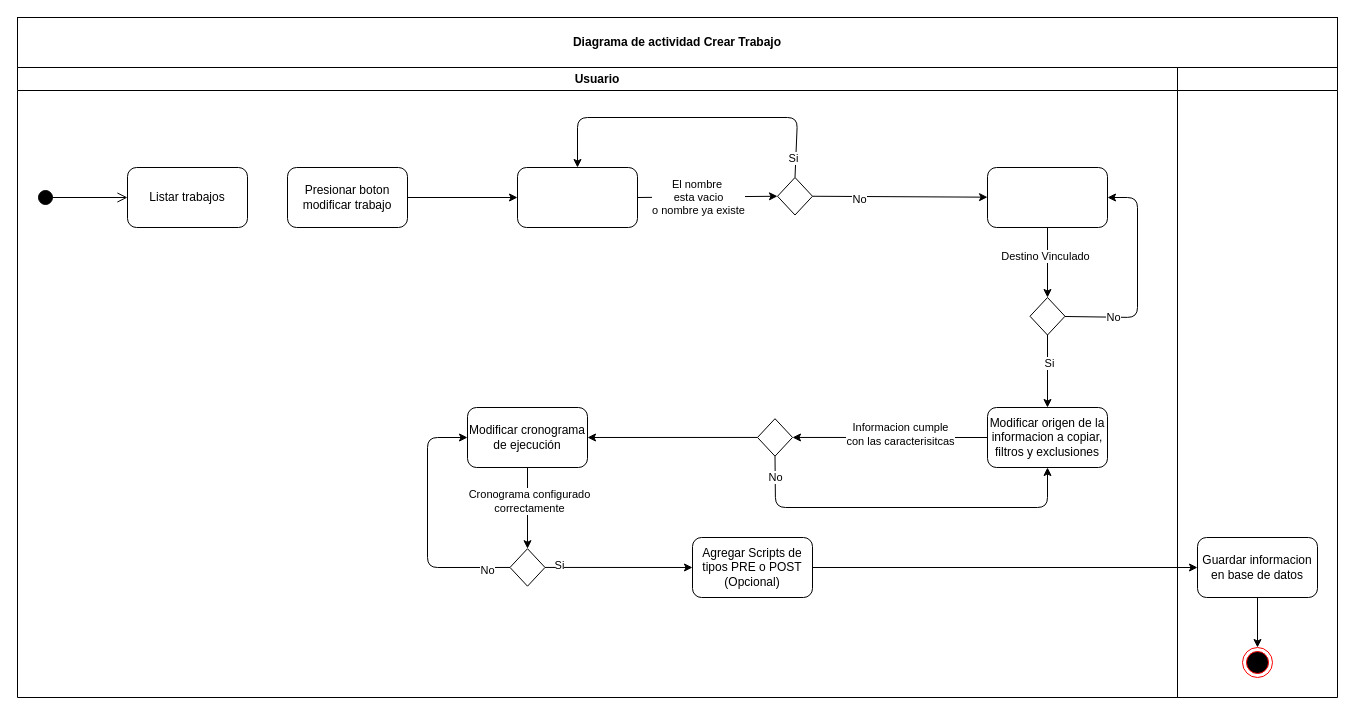
Some shapes in this 1355 by 715 pixel diagram are drawn without their labels. Here are the shapes that lost their labels. From the top down, the box of each, then its label:
(516, 166, 638, 228): Modificar nombre o descripcion
(986, 166, 1108, 228): Modificar Destino
(1176, 66, 1338, 698): Sistema
(1242, 646, 1272, 678): FIN
